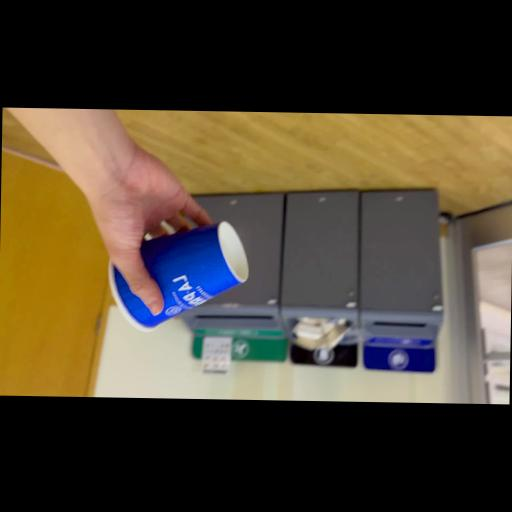lp_paper_cup: (109, 219, 250, 334)
